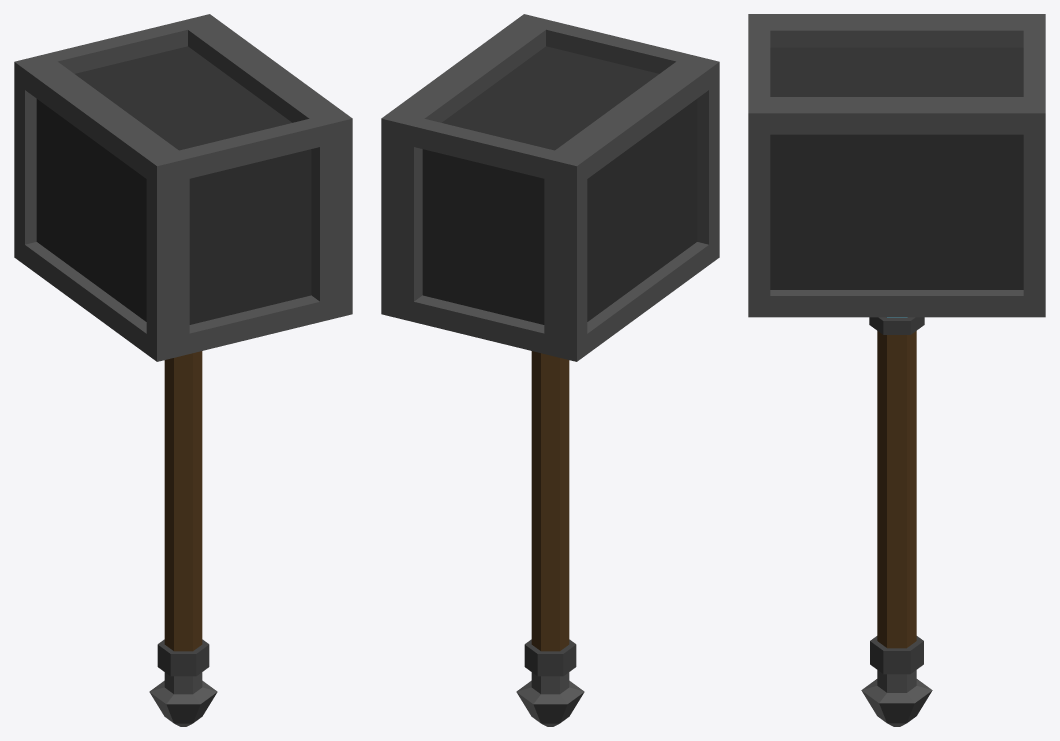
File: Hammer_01.glb
3 renders of one model, left to right at view 1: azimuth 30°, elevation 25°; view 2: azimuth 150°, elevation 25°; view 3: azimuth 270°, elevation 25°, orthographic. The views are drawn at different scales.
Parts seen in each view (by area): view 1: Head, Hammer_01; view 2: Head, Hammer_01; view 3: Head, Hammer_01.
Part boxes in pixels (x1,y1,x2,y2): Head: (14, 14, 352, 361); Hammer_01: (149, 351, 217, 726); Head: (381, 14, 719, 361); Hammer_01: (516, 351, 584, 726); Head: (748, 14, 1045, 317); Hammer_01: (861, 317, 932, 726).
Size of the model in its own units: 0.2602 by 0.8066 by 0.3291.
Materials: 1 (1 with a texture image).
